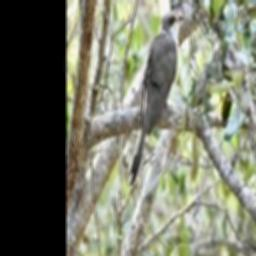Cuckoo: (130, 12, 182, 185)
